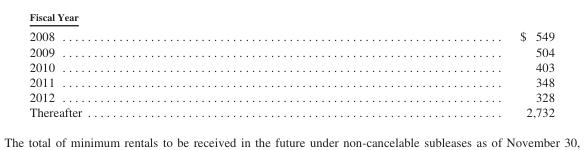table: (28, 29, 553, 119)
table column: (28, 29, 300, 119), (300, 29, 553, 119)
table row: (28, 58, 553, 74), (28, 43, 553, 58), (28, 74, 553, 89), (28, 89, 553, 104), (28, 104, 553, 119), (28, 29, 553, 43)
